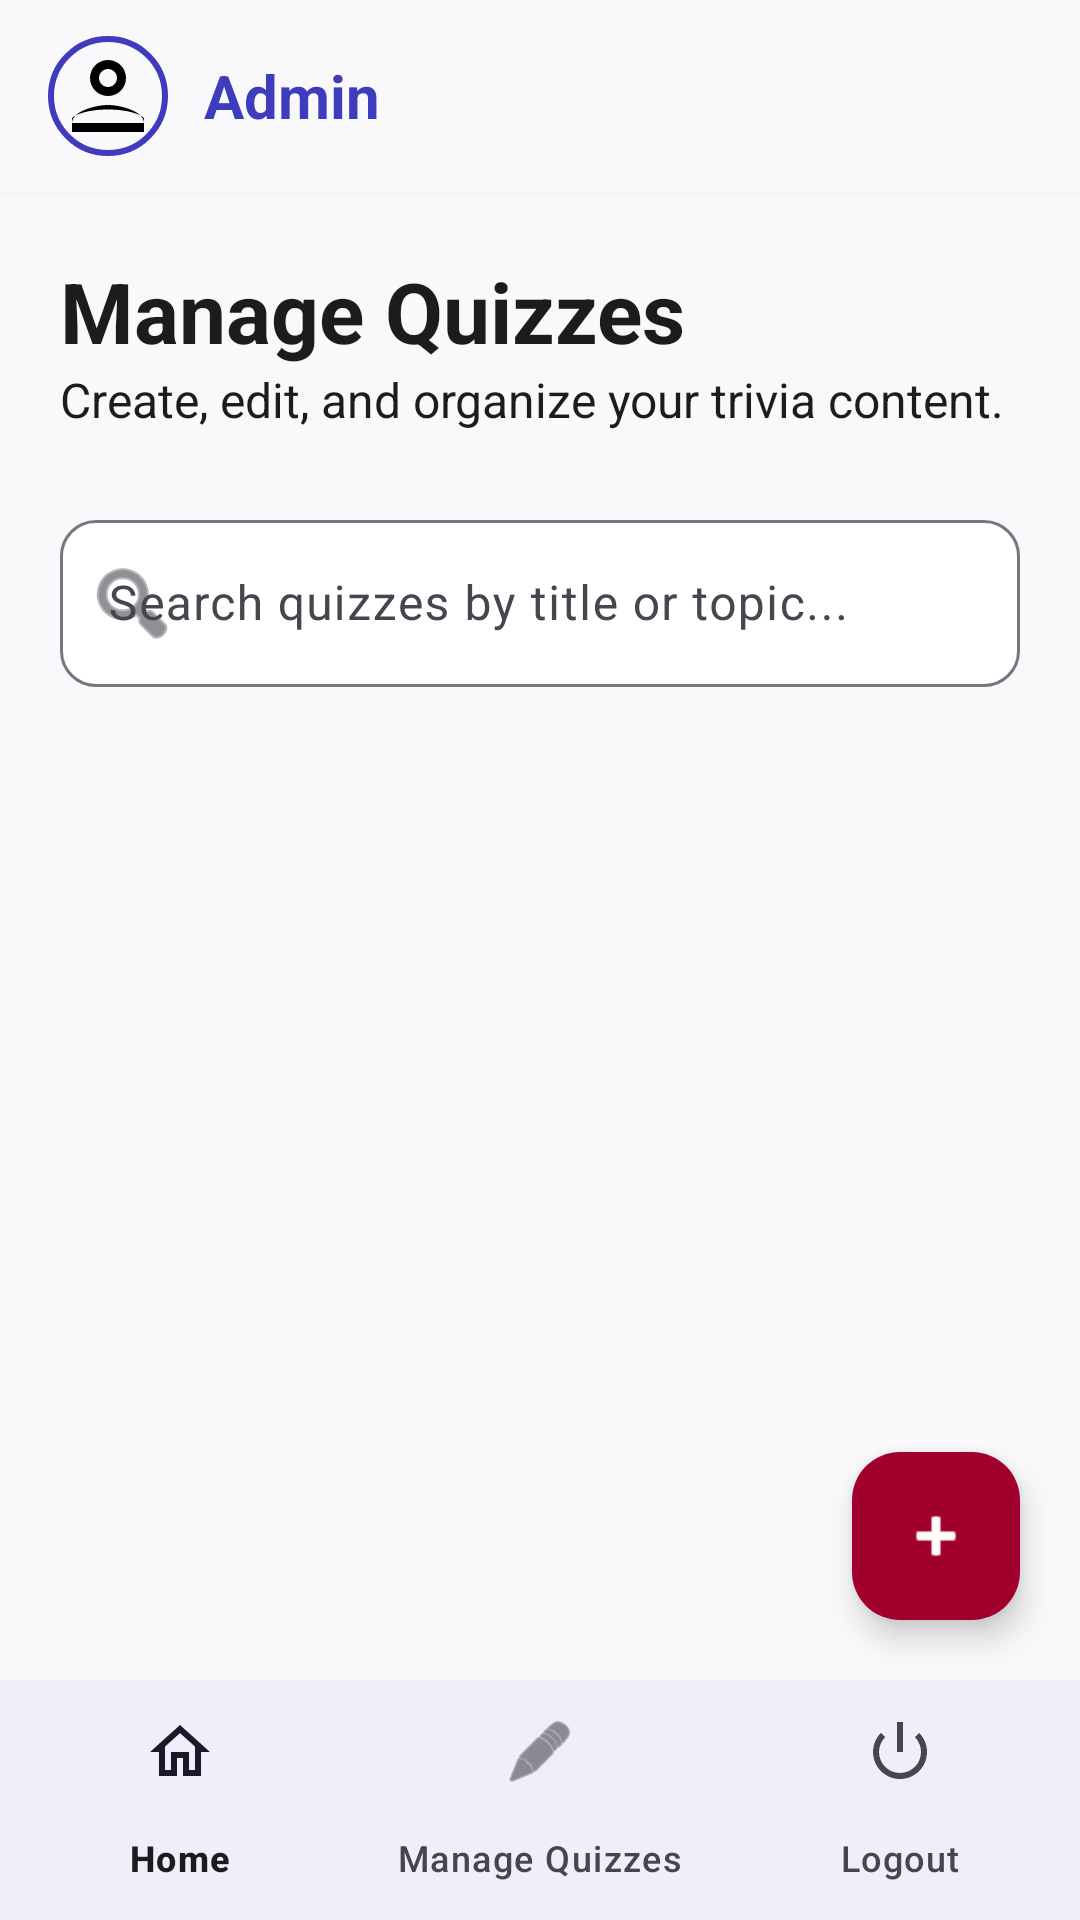

Where to tap for icons on this 1080x1920 app screen, as point (x, y):
add: point (936, 1536)
profile: point (108, 96)
